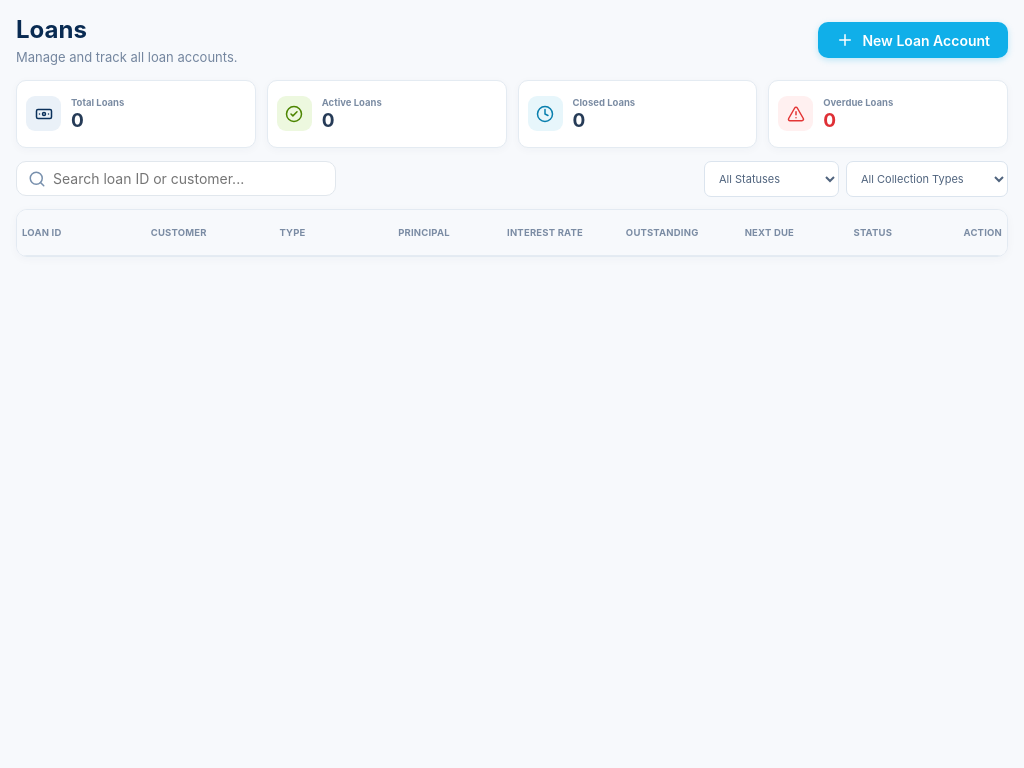
Scenario: Loans Page Component › opens and closes the Create Loan modal
What coordinates should you click on to do the following:
click the button "New Loan Account"
I would click on:
 (913, 40)
Its box is [818,22,1008,58].
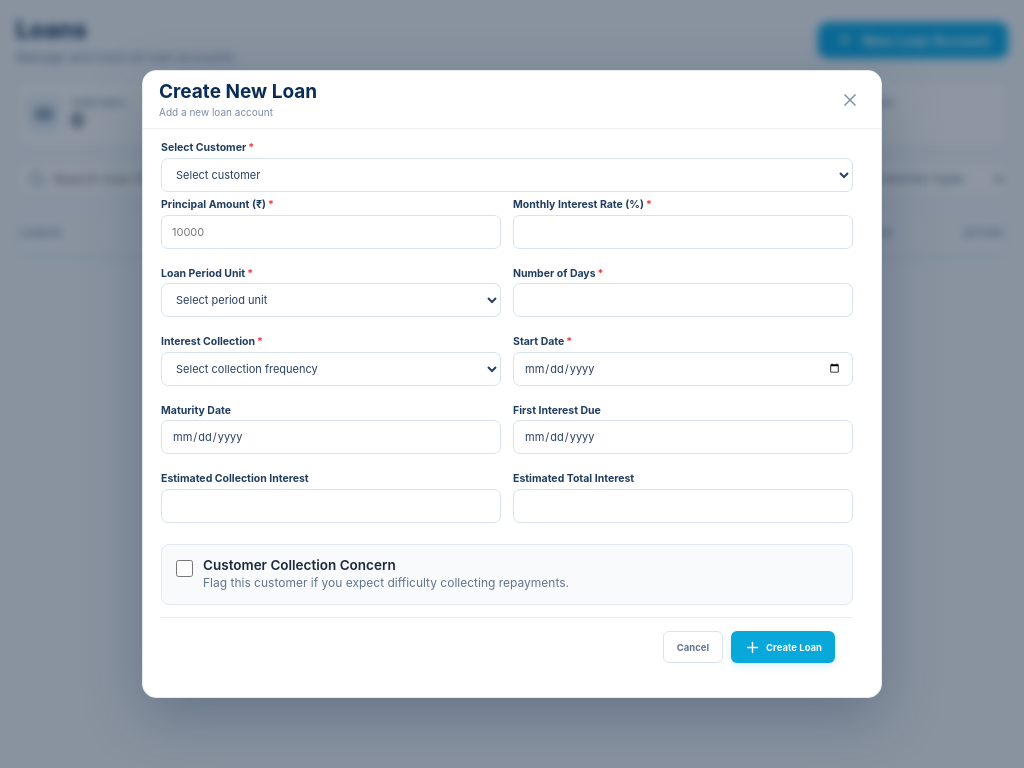
Expected: the heading "Create New Loan" is shown, [159,82,317,103]
Expected: the text "Interest Collection*" is shown, [161,335,263,348]
What coordinates should you click on to do the following:
click the button "Cancel"
I would click on:
 (693, 647)
Its box is [663,631,723,663].
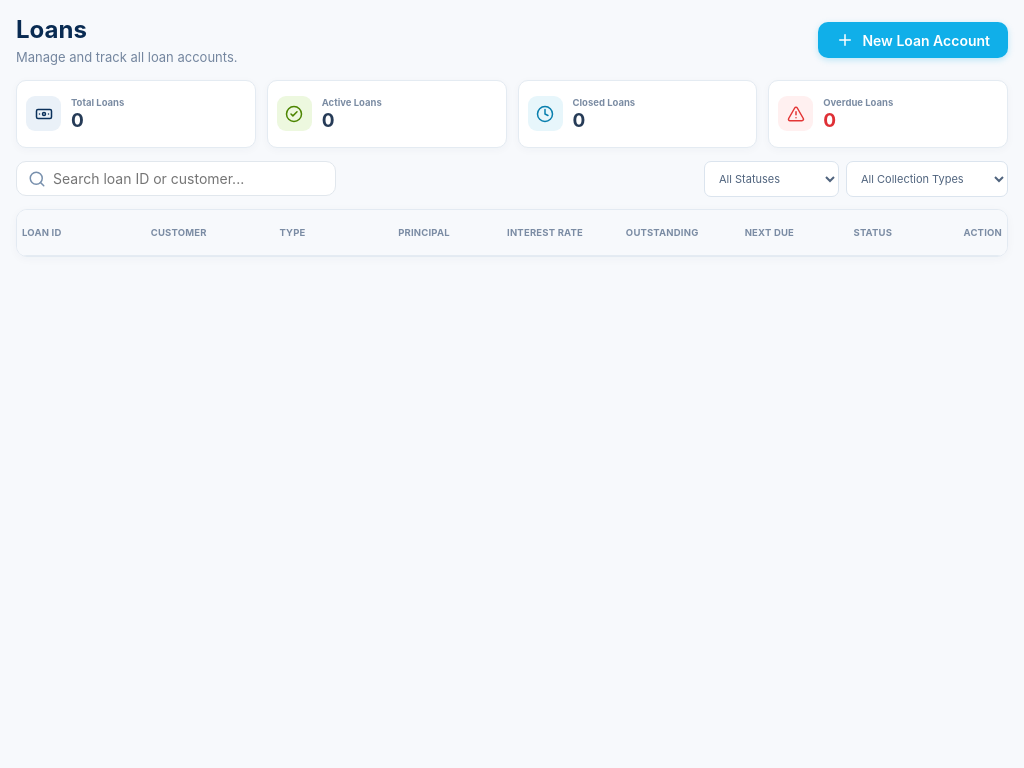
Expected: the heading "Create New Loan" is gone
